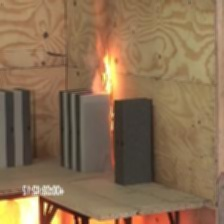fire: (89, 39, 125, 112)
